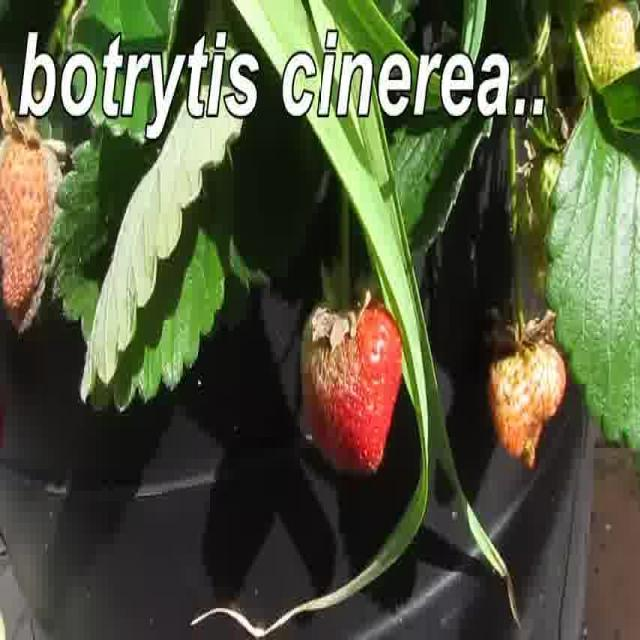Fruta sana: (522, 121, 598, 286), (486, 347, 566, 467), (570, 0, 640, 135)
Moho gris: (297, 294, 404, 478), (0, 110, 72, 344)
